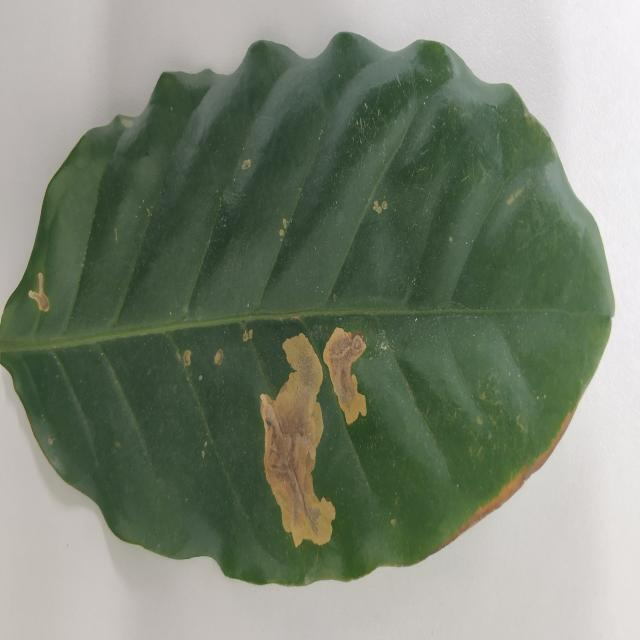Plaga-Minador: (0, 32, 616, 589)
